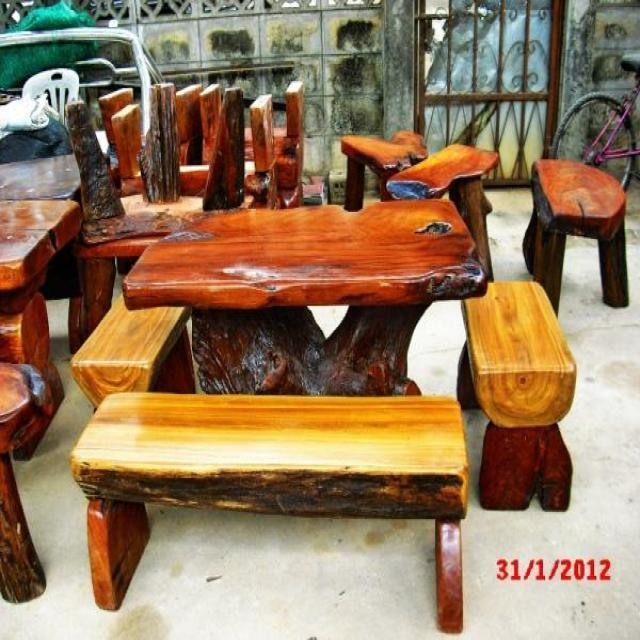table: (115, 191, 504, 350)
